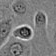cell: (12, 25, 33, 40), (7, 42, 25, 56), (33, 10, 48, 26), (11, 1, 27, 15), (1, 20, 11, 40)
